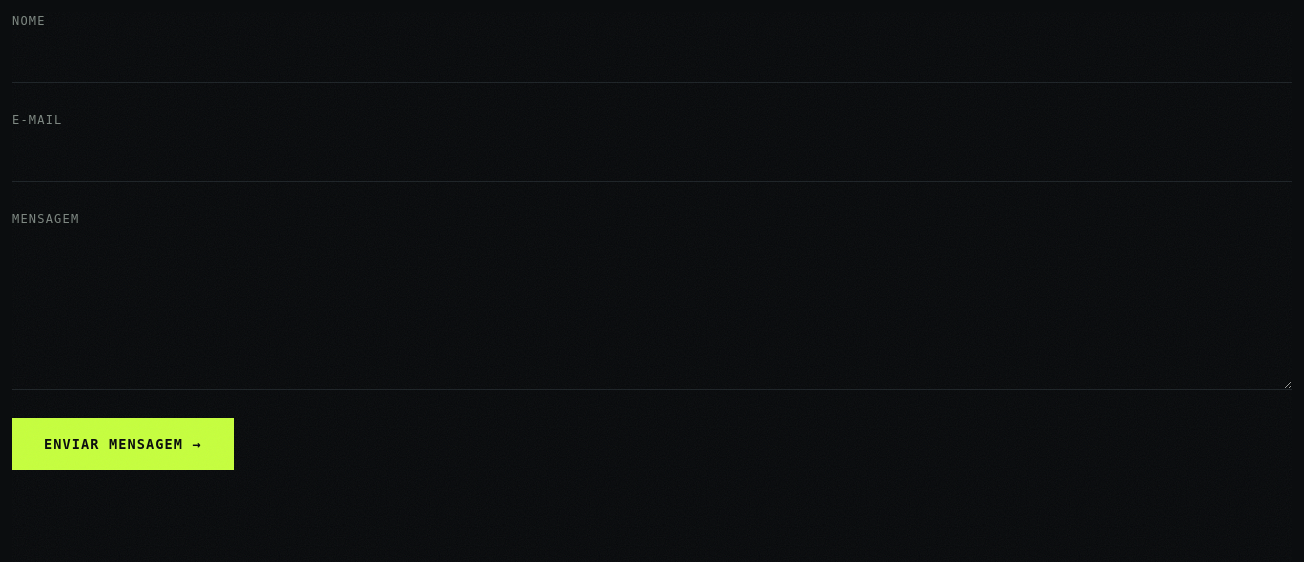
Test: FormularioContato › mostra os três erros e marca os campos como inválidos ao enviar vazio
Click the button "Enviar mensagem →". click: point(123, 444)
box: [12,418,234,470]
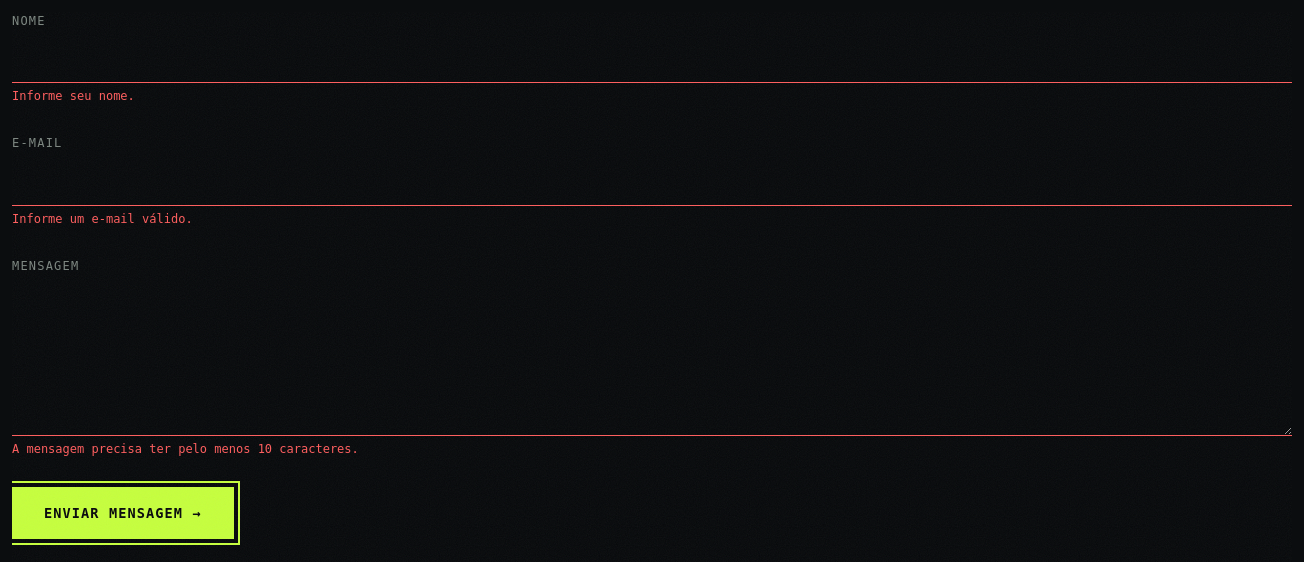
Result: the text "Informe seu nome." is shown at [12,89,135,103]
Result: the text "Informe um e-mail válido." is shown at [12,212,193,226]
Result: the text "A mensagem precisa ter pelo menos 10 caracteres." is shown at [12,442,359,456]
